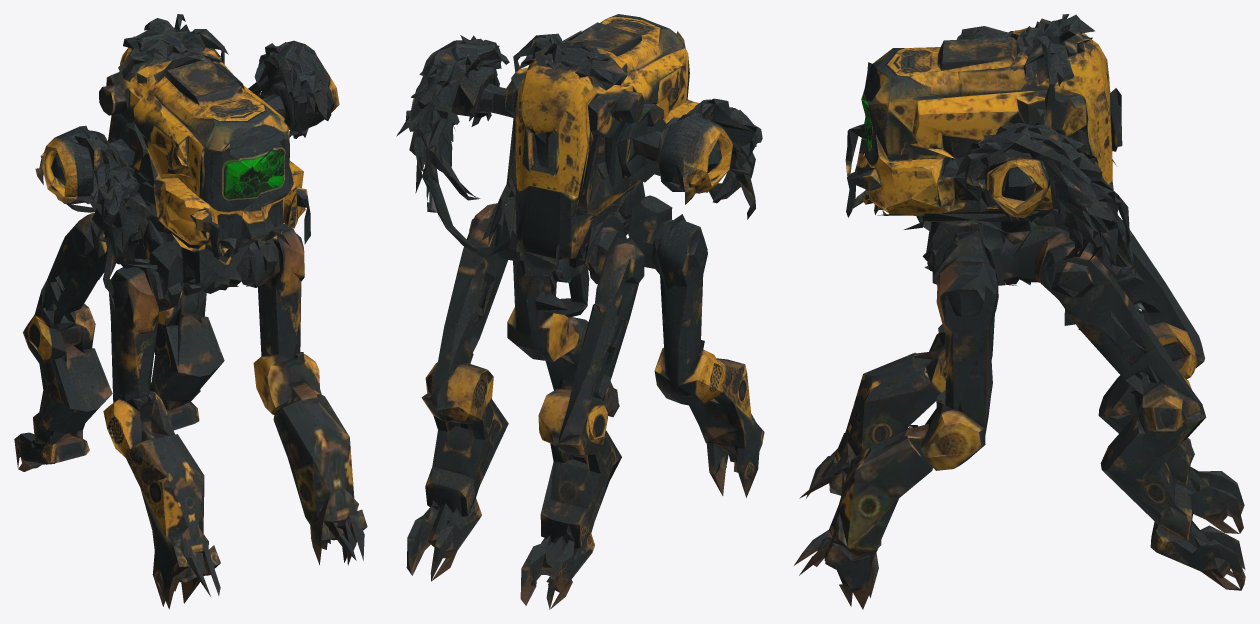
File: cargo_loader.glb
3 views of the same model, side by side, from view 1: azimuth 30°, elevation 25°; view 2: azimuth 150°, elevation 25°; view 3: azimuth 270°, elevation 25° (orthographic). The views are drawn at different scales.
Size of the model in its own units: 1.87 by 3.2 by 2.39.
1 material, 1 textured.
